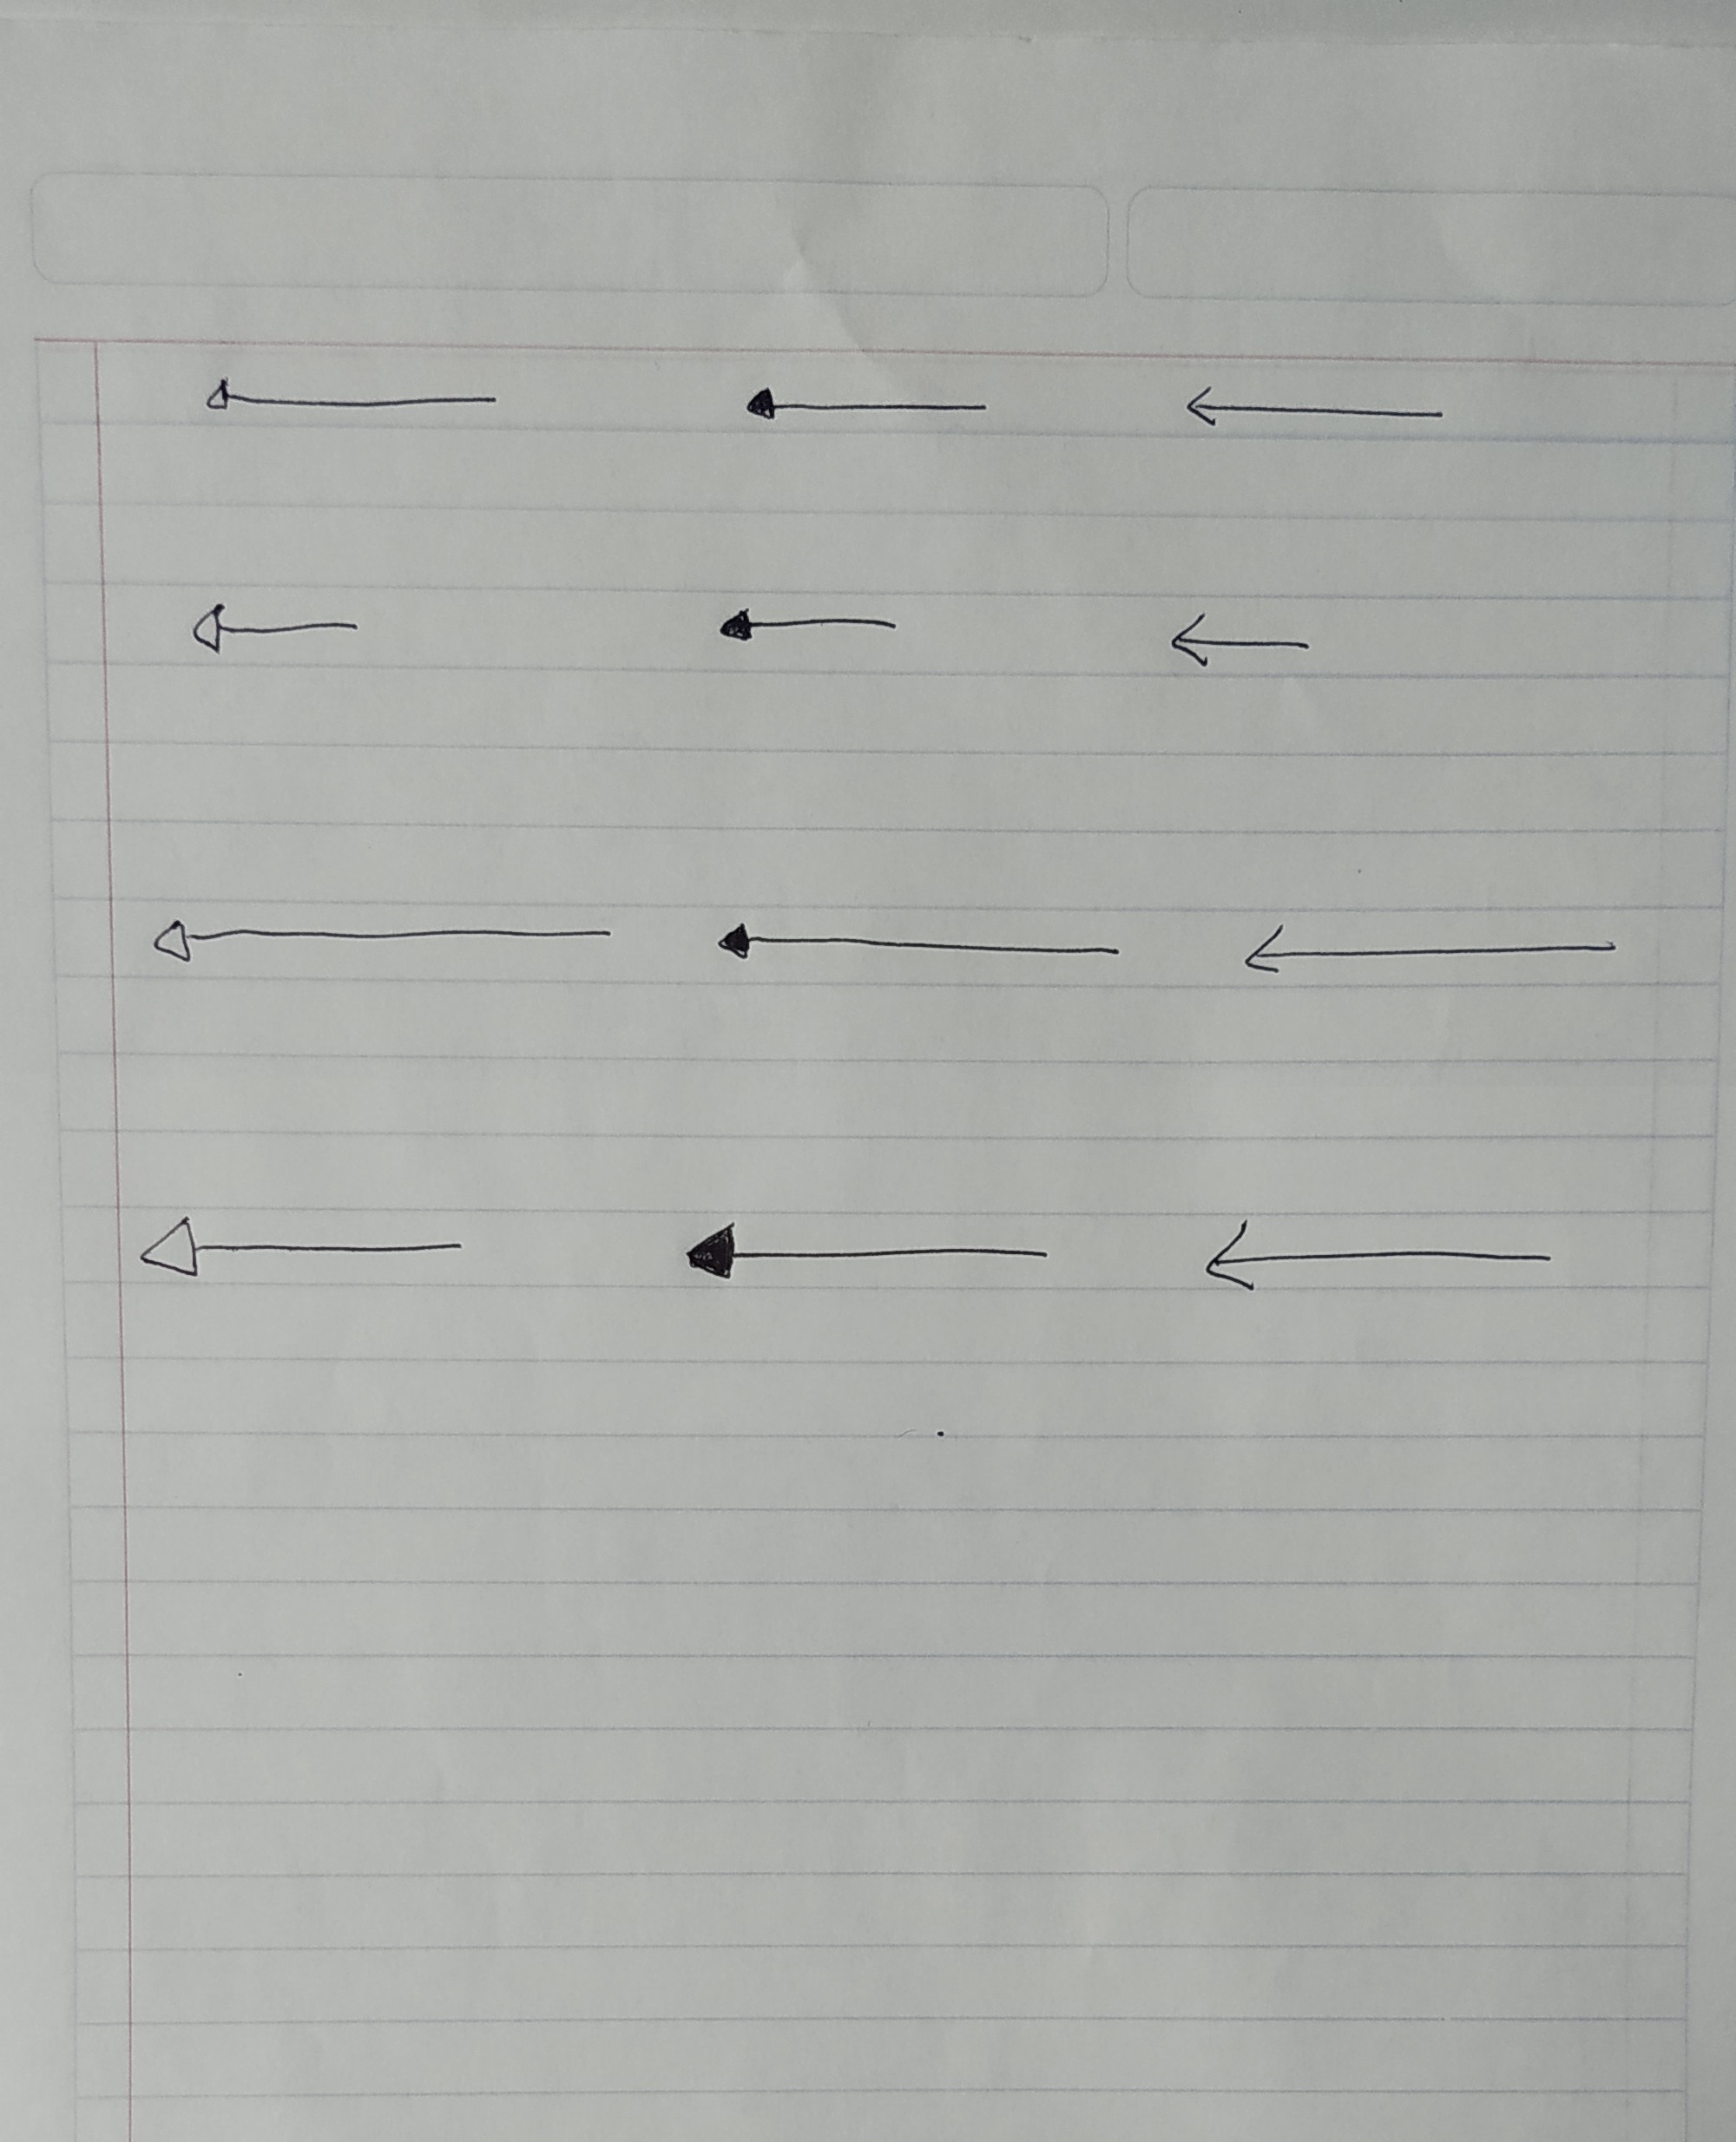arrow_line_left: (1199, 1215, 1557, 1306), (680, 1214, 1056, 1295), (145, 911, 620, 974), (135, 1210, 462, 1295), (714, 912, 1128, 978), (1240, 916, 1624, 982), (1182, 379, 1447, 445), (204, 374, 498, 422), (744, 377, 994, 432), (188, 595, 365, 659), (1166, 608, 1320, 679), (714, 599, 900, 652)
